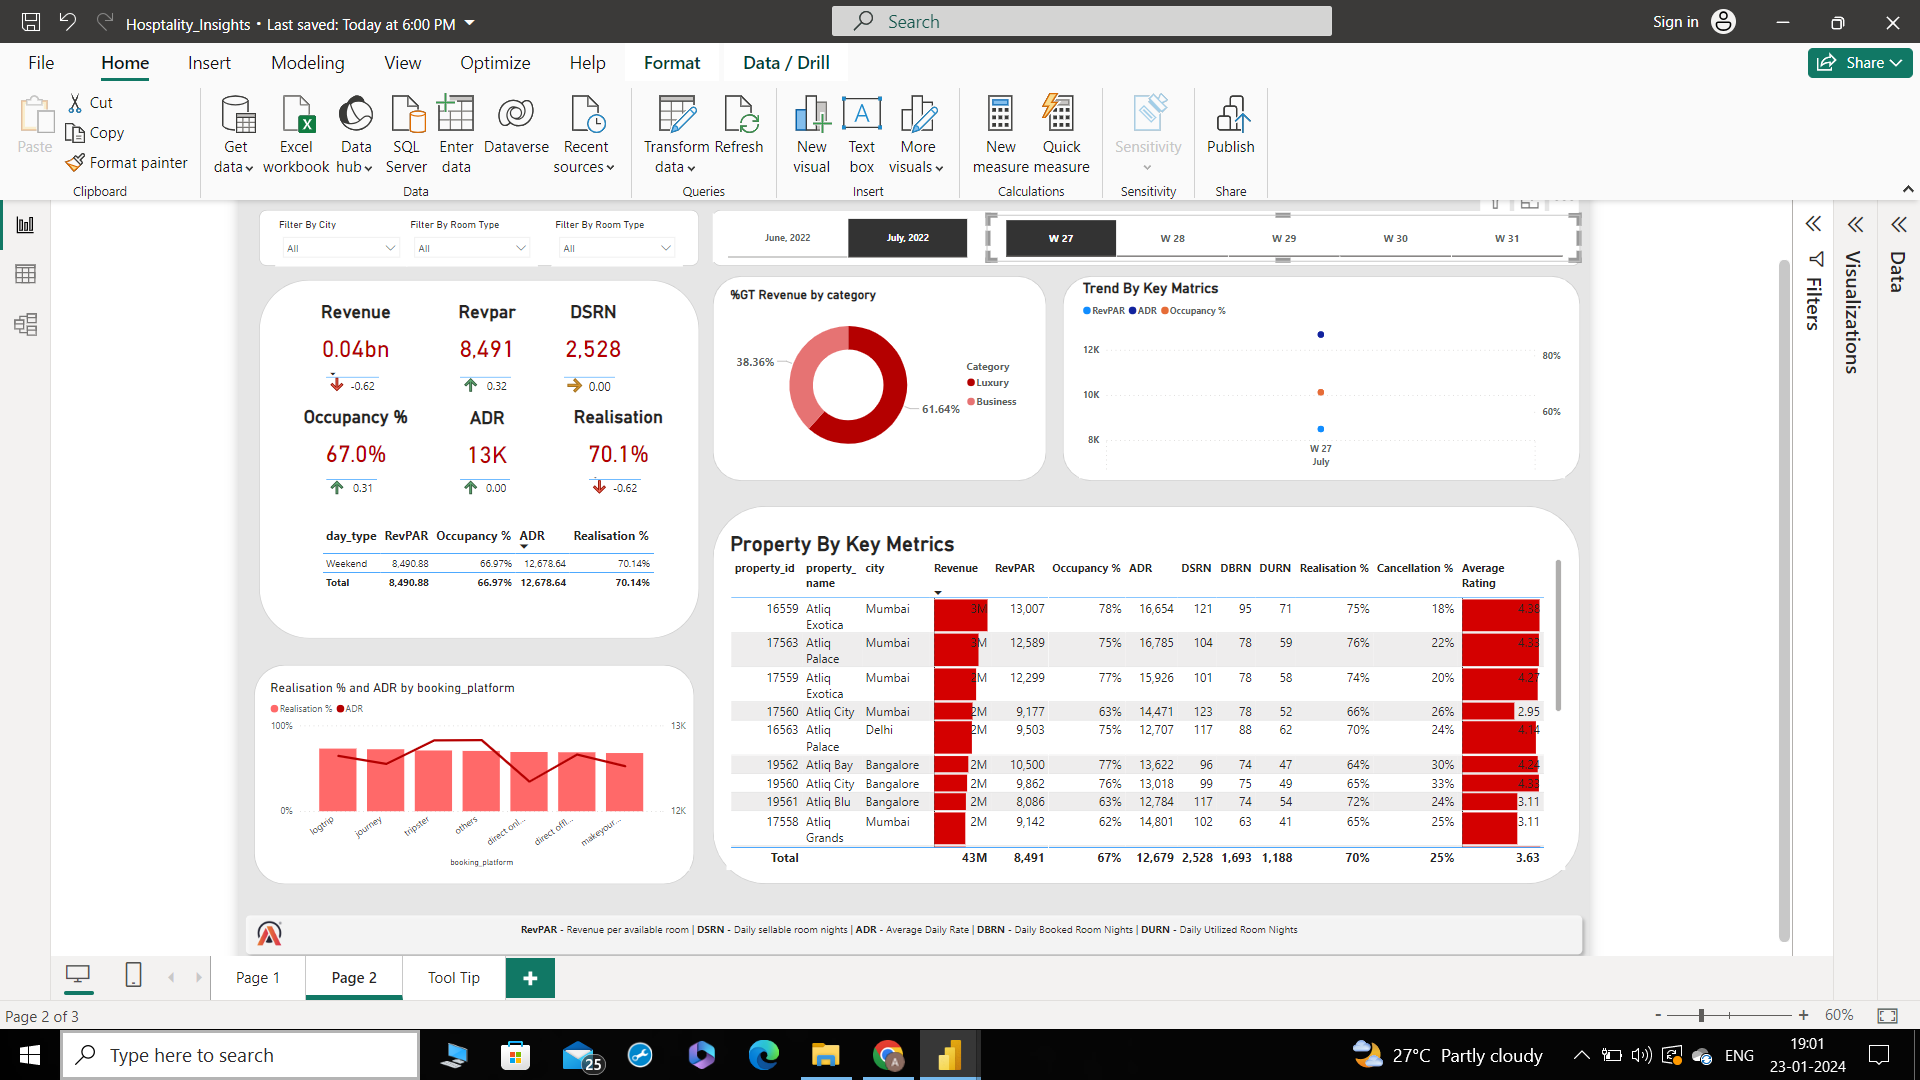

Layout of this report page (visuals, bound fields, positions):
{"tool":"powerbi","page":{"name":"Page 2","canvas":[1800,1100],"ordinal":1},"visuals":[{"type":"shape","box":[0,1016,1800,70],"z":0},{"type":"shape","box":[20,691.4,587.1,292.9],"z":1000},{"type":"shape","box":[632,480,1156,504],"z":2000},{"type":"shape","box":[1098.3,173.3,690,273.3],"z":3000},{"type":"shape","box":[631.7,173.3,445,273.3],"z":4000},{"type":"shape","box":[631.7,85,1156.7,75],"z":5000},{"type":"shape","box":[27.1,178.6,587.1,478.6],"z":6000},{"type":"shape","box":[26.7,85,586.7,75],"z":7000},{"type":"tableEx","title":"Property By Key Metrics","fields":{"Values":["dim_hotels.property_id","dim_hotels.property_name","dim_hotels.city","key_measures (2).Revenue","key_measures (2).RevPAR","key_measures (2).Occupancy %","key_measures (2).ADR","key_measures (2).DSRN","key_measures (2).DBRN","key_measures (2).DURN","key_measures (2).Realisation %","key_measures (2).Cancellation %"]},"box":[650,515.7,1118.6,450],"z":8000},{"type":"slicer","title":"Filter By City","fields":{"Values":["dim_hotels.city"]},"box":[48,96,176,64],"z":9000},{"type":"slicer","title":"Filter By Room Type","fields":{"Values":["dim_rooms.room_class"]},"box":[417,96,175,64],"z":10000},{"type":"slicer","fields":{"Values":["dim_date.mmm yy"]},"box":[631.7,90,358.3,65],"z":11000},{"type":"slicer","fields":{"Values":["dim_date.week no"]},"box":[996.7,91.7,791.7,63.3],"z":12000},{"type":"tableEx","fields":{"Values":["key_measures (2).\"Revenue WoW change %"]},"box":[110.8,281.5,88.5,57.7],"z":13000},{"type":"donutChart","fields":{"Category":["dim_hotels.category"],"Y":["key_measures (2).Revenue"]},"box":[650,188.3,405,241.7],"z":14000},{"type":"lineStackedColumnComboChart","fields":{"Category":["fact_bookings.booking_platform"],"Y":["key_measures (2).Realisation %"],"Y2":["key_measures (2).ADR"]},"box":[37.1,711.4,564.3,254.3],"z":15000},{"type":"lineChart","title":"Trend By Key Matrics","fields":{"Category":["dim_date.mmm yy.Variation.Date Hierarchy.Month","dim_date.week no"],"Y2":["key_measures (2).Occupancy %"],"Y":["key_measures (2).RevPAR","key_measures (2).ADR"]},"box":[1120,178.3,648.3,265],"z":16000},{"type":"tableEx","fields":{"Values":["dim_date.day_type","key_measures (2).RevPAR","key_measures (2).Occupancy %","key_measures (2).ADR","key_measures (2).Realisation %"]},"box":[105,500,455,126.7],"z":17000},{"type":"slicer","title":"Filter By Room Type","fields":{"Values":["dim_rooms.room_class"]},"box":[224,96,175,64],"z":18000},{"type":"image","box":[0,1028,81.3,42.7],"z":20000},{"type":"textbox","box":[345,1029.6,1093.6,39],"z":21000},{"type":"tableEx","fields":{"Values":["key_measures (2).\"DSRN WoW change %"]},"box":[426.9,281.5,88.5,56.2],"z":22000},{"type":"tableEx","fields":{"Values":["key_measures (2).\"Revpar WoW change %"]},"box":[287.7,281.5,89.2,55.4],"z":23000},{"type":"card","title":"DSRN","fields":{"Values":["key_measures (2).DSRN"]},"box":[384.3,206.8,175,95],"z":24000},{"type":"card","title":"Revpar","fields":{"Values":["key_measures (2).RevPAR"]},"box":[242.7,206.5,175,95],"z":25000},{"type":"card","title":"Revenue","fields":{"Values":["key_measures (2).Revenue"]},"box":[67.7,206.5,175,95],"z":26000},{"type":"tableEx","fields":{"Values":["key_measures (2).\"Occupancy WoW change %"]},"box":[110.8,417.7,88.5,57.7],"z":27000},{"type":"card","title":"Occupancy %","fields":{"Values":["key_measures (2).Occupancy %"]},"box":[67.7,347.5,175,95],"z":28000},{"type":"tableEx","fields":{"Values":["key_measures (2).\"ADR WoW change %"]},"box":[287.7,417.7,88.5,57.7],"z":29000},{"type":"tableEx","fields":{"Values":["key_measures (2).\"Revenue WoW change %"]},"box":[460,418.5,88.5,57.7],"z":30000},{"type":"card","title":"ADR","fields":{"Values":["key_measures (2).ADR"]},"box":[242.7,348.5,175,95],"z":31000},{"type":"card","title":"Realisation","fields":{"Values":["key_measures (2).Realisation %"]},"box":[417.7,347.5,175,95],"z":31500}]}

Visuals, with their boxes on the page's 1800x1100 design canvas (x1, y1, x2, y2). These are canvas units, not pixel positions in the 1920x1080 screenshot, which may show the page scaled, cropped or inside an application window:
shape: [x1=0, y1=1016, x2=1800, y2=1086]
shape: [x1=20, y1=691, x2=607, y2=984]
shape: [x1=632, y1=480, x2=1788, y2=984]
shape: [x1=1098, y1=173, x2=1788, y2=447]
shape: [x1=632, y1=173, x2=1077, y2=447]
shape: [x1=632, y1=85, x2=1788, y2=160]
shape: [x1=27, y1=179, x2=614, y2=657]
shape: [x1=27, y1=85, x2=613, y2=160]
"Property By Key Metrics" tableEx: [x1=650, y1=516, x2=1769, y2=966]
"Filter By City" slicer: [x1=48, y1=96, x2=224, y2=160]
"Filter By Room Type" slicer: [x1=417, y1=96, x2=592, y2=160]
slicer - dim_date.mmm yy: [x1=632, y1=90, x2=990, y2=155]
slicer - dim_date.week no: [x1=997, y1=92, x2=1788, y2=155]
tableEx - key_measures (2)."Revenue WoW change %: [x1=111, y1=282, x2=199, y2=339]
donutChart - dim_hotels.category x key_measures (2).Revenue: [x1=650, y1=188, x2=1055, y2=430]
lineStackedColumnComboChart - fact_bookings.booking_platform x key_measures (2).Realisation %: [x1=37, y1=711, x2=601, y2=966]
"Trend By Key Matrics" lineChart: [x1=1120, y1=178, x2=1768, y2=443]
tableEx - dim_date.day_type x key_measures (2).RevPAR: [x1=105, y1=500, x2=560, y2=627]
"Filter By Room Type" slicer: [x1=224, y1=96, x2=399, y2=160]
image: [x1=0, y1=1028, x2=81, y2=1071]
textbox: [x1=345, y1=1030, x2=1439, y2=1069]
tableEx - key_measures (2)."DSRN WoW change %: [x1=427, y1=282, x2=515, y2=338]
tableEx - key_measures (2)."Revpar WoW change %: [x1=288, y1=282, x2=377, y2=337]
"DSRN" card: [x1=384, y1=207, x2=559, y2=302]
"Revpar" card: [x1=243, y1=206, x2=418, y2=302]
"Revenue" card: [x1=68, y1=206, x2=243, y2=302]
tableEx - key_measures (2)."Occupancy WoW change %: [x1=111, y1=418, x2=199, y2=475]
"Occupancy %" card: [x1=68, y1=348, x2=243, y2=442]
tableEx - key_measures (2)."ADR WoW change %: [x1=288, y1=418, x2=376, y2=475]
tableEx - key_measures (2)."Revenue WoW change %: [x1=460, y1=418, x2=548, y2=476]
"ADR" card: [x1=243, y1=348, x2=418, y2=444]
"Realisation" card: [x1=418, y1=348, x2=593, y2=442]
